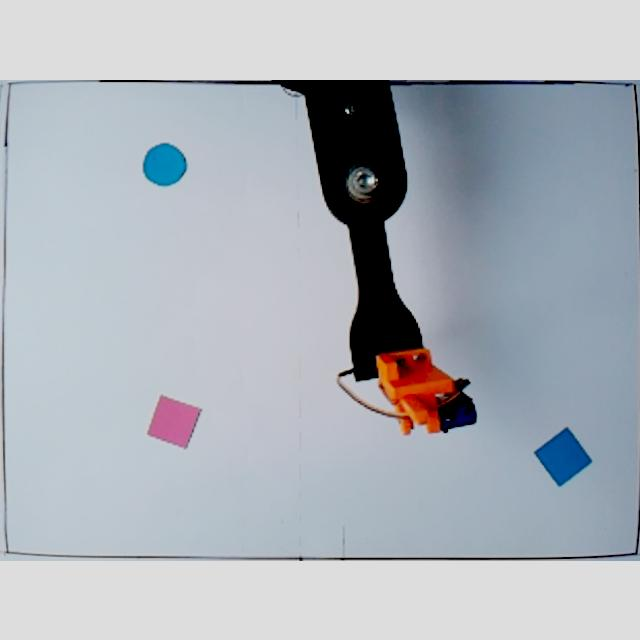blueCircle: (138, 140, 190, 188)
blueSquare: (532, 424, 594, 486)
pinkSquare: (146, 392, 202, 448)
